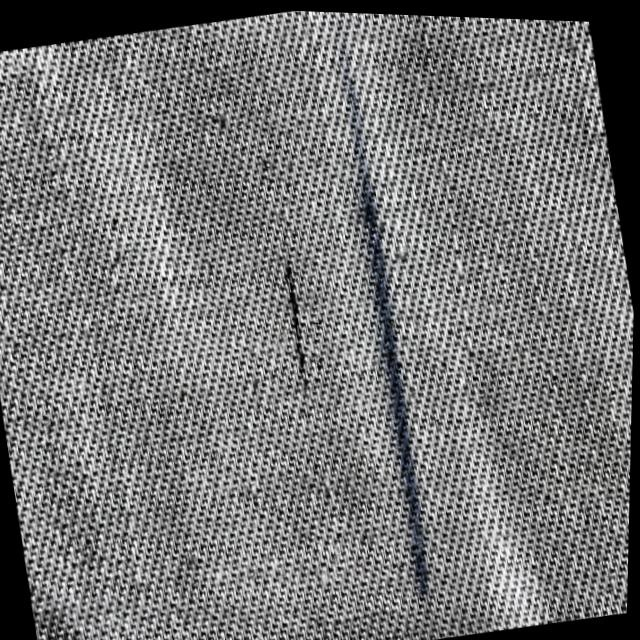Hole: (266, 253, 327, 385)
